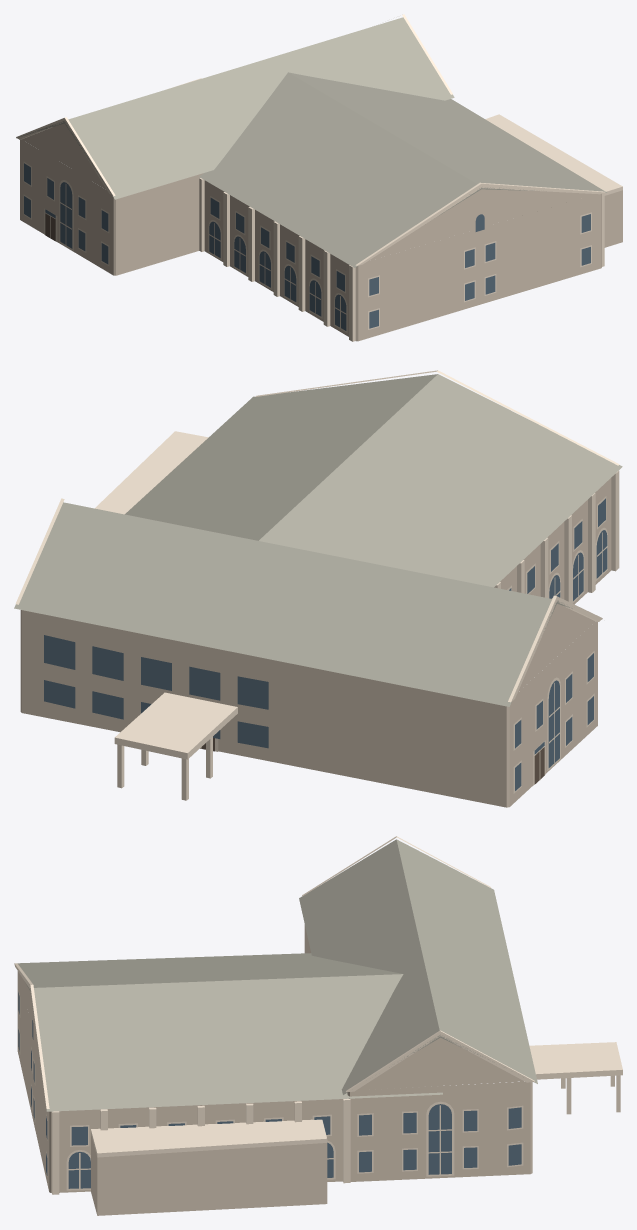
Rendered from clt-myers-park-presbyterian-outreach-center.glb.
The picture shows the model from 3 angles, top to bottom: view 1: azimuth 30°, elevation 25°; view 2: azimuth 150°, elevation 25°; view 3: azimuth 270°, elevation 25°; orthographic projection. The views are drawn at different scales.
Parts seen in each view (by area): view 1: Myers Park Presbyterian Church Outreach Center; view 2: Myers Park Presbyterian Church Outreach Center; view 3: Myers Park Presbyterian Church Outreach Center.
Part boxes in pixels (left/top/right/bottom): Myers Park Presbyterian Church Outreach Center: left=16, top=14, right=622, bottom=341; Myers Park Presbyterian Church Outreach Center: left=14, top=370, right=622, bottom=807; Myers Park Presbyterian Church Outreach Center: left=14, top=836, right=622, bottom=1215.
Bounding box in the file's own units: 55.22 × 16.15 × 59.98.
